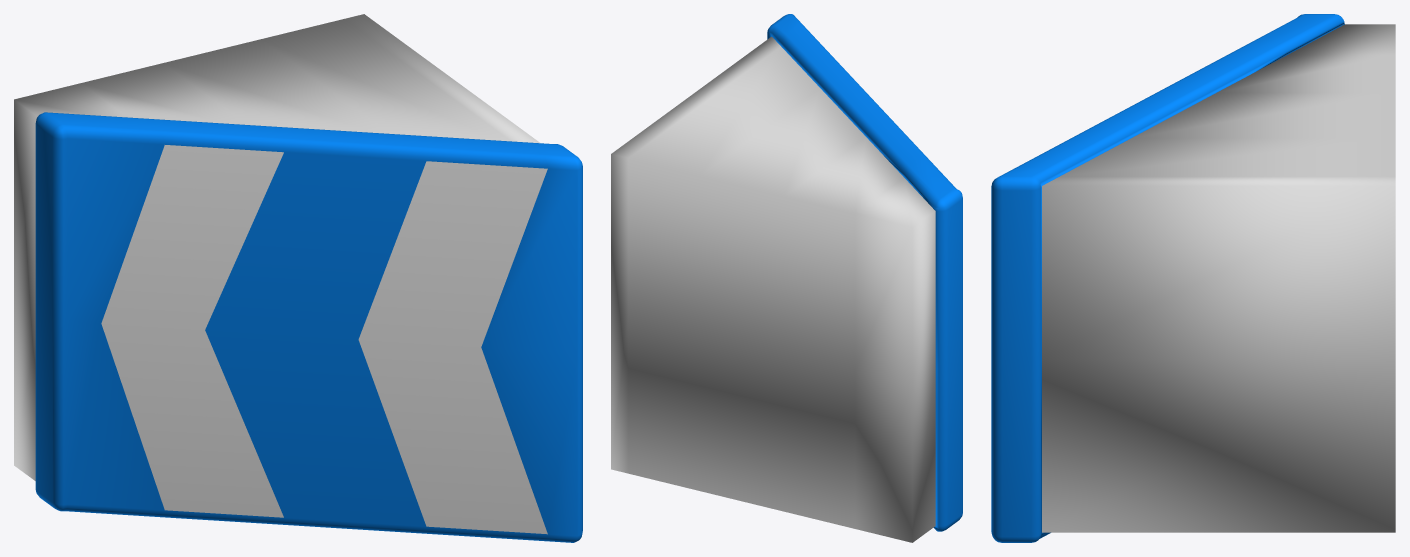
The model's file is Base_1_Ramp_Base_to_Tall_Down.glb.
3 renders of one model, left to right at view 1: azimuth 30°, elevation 25°; view 2: azimuth 150°, elevation 25°; view 3: azimuth 270°, elevation 25°, orthographic. The views are drawn at different scales.
Parts seen in each view (by area): view 1: Base 1 Ramp Base to Tall Down; view 2: Base 1 Ramp Base to Tall Down; view 3: Base 1 Ramp Base to Tall Down.
Part boxes in pixels (x1,y1,x2,y2): Base 1 Ramp Base to Tall Down: (14,14,582,542); Base 1 Ramp Base to Tall Down: (611,14,962,542); Base 1 Ramp Base to Tall Down: (991,14,1395,542).
Size of the model in its own units: 7.98 by 7.98 by 7.99.
